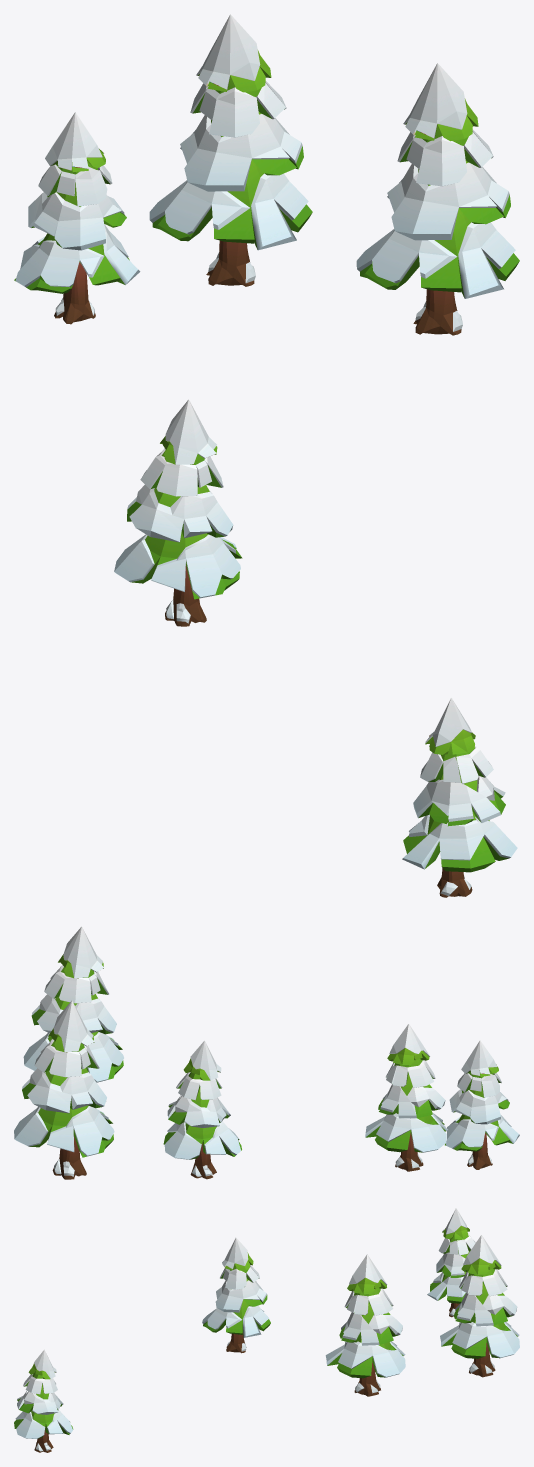
3 views of the same model, one above another, from view 1: azimuth 30°, elevation 25°; view 2: azimuth 150°, elevation 25°; view 3: azimuth 270°, elevation 25° (orthographic). The views are drawn at different scales.
Parts seen in each view (by area): view 1: SnowyTree (9), SnowyTree (6), SnowyTree (7), SnowyTree (10), SnowyTree (8); view 2: SnowyTree (9), SnowyTree (7), SnowyTree (6), SnowyTree (10), SnowyTree (8); view 3: SnowyTree (9), SnowyTree (6), SnowyTree (7), SnowyTree (8), SnowyTree (10).
Part boxes in pixels (x1,y1,x2,y2): SnowyTree (9): (149,14,312,286); SnowyTree (6): (356,63,519,335); SnowyTree (7): (114,399,242,626); SnowyTree (10): (14,112,140,324); SnowyTree (8): (402,698,517,897); SnowyTree (9): (14,1000,114,1179); SnowyTree (7): (365,1024,447,1171); SnowyTree (6): (23,926,123,1082); SnowyTree (10): (163,1040,241,1179); SnowyTree (8): (445,1040,519,1169); SnowyTree (9): (440,1235,519,1377); SnowyTree (6): (325,1254,405,1396); SnowyTree (7): (202,1238,270,1353); SnowyTree (8): (14,1349,73,1452); SnowyTree (10): (427,1208,475,1317).
Bounding box in the file's own units: 18.16 × 17.92 × 30.42.
Materials: 1 (1 with a texture image).
